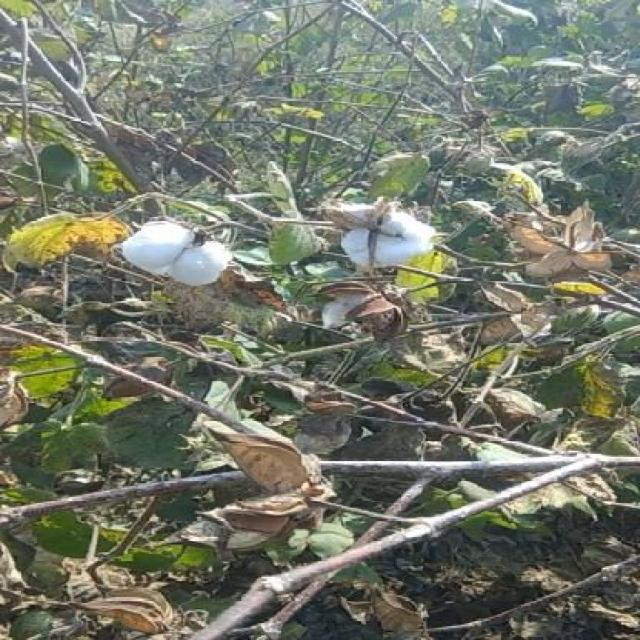cotton_ready: (288, 197, 446, 280), (95, 218, 237, 298)
